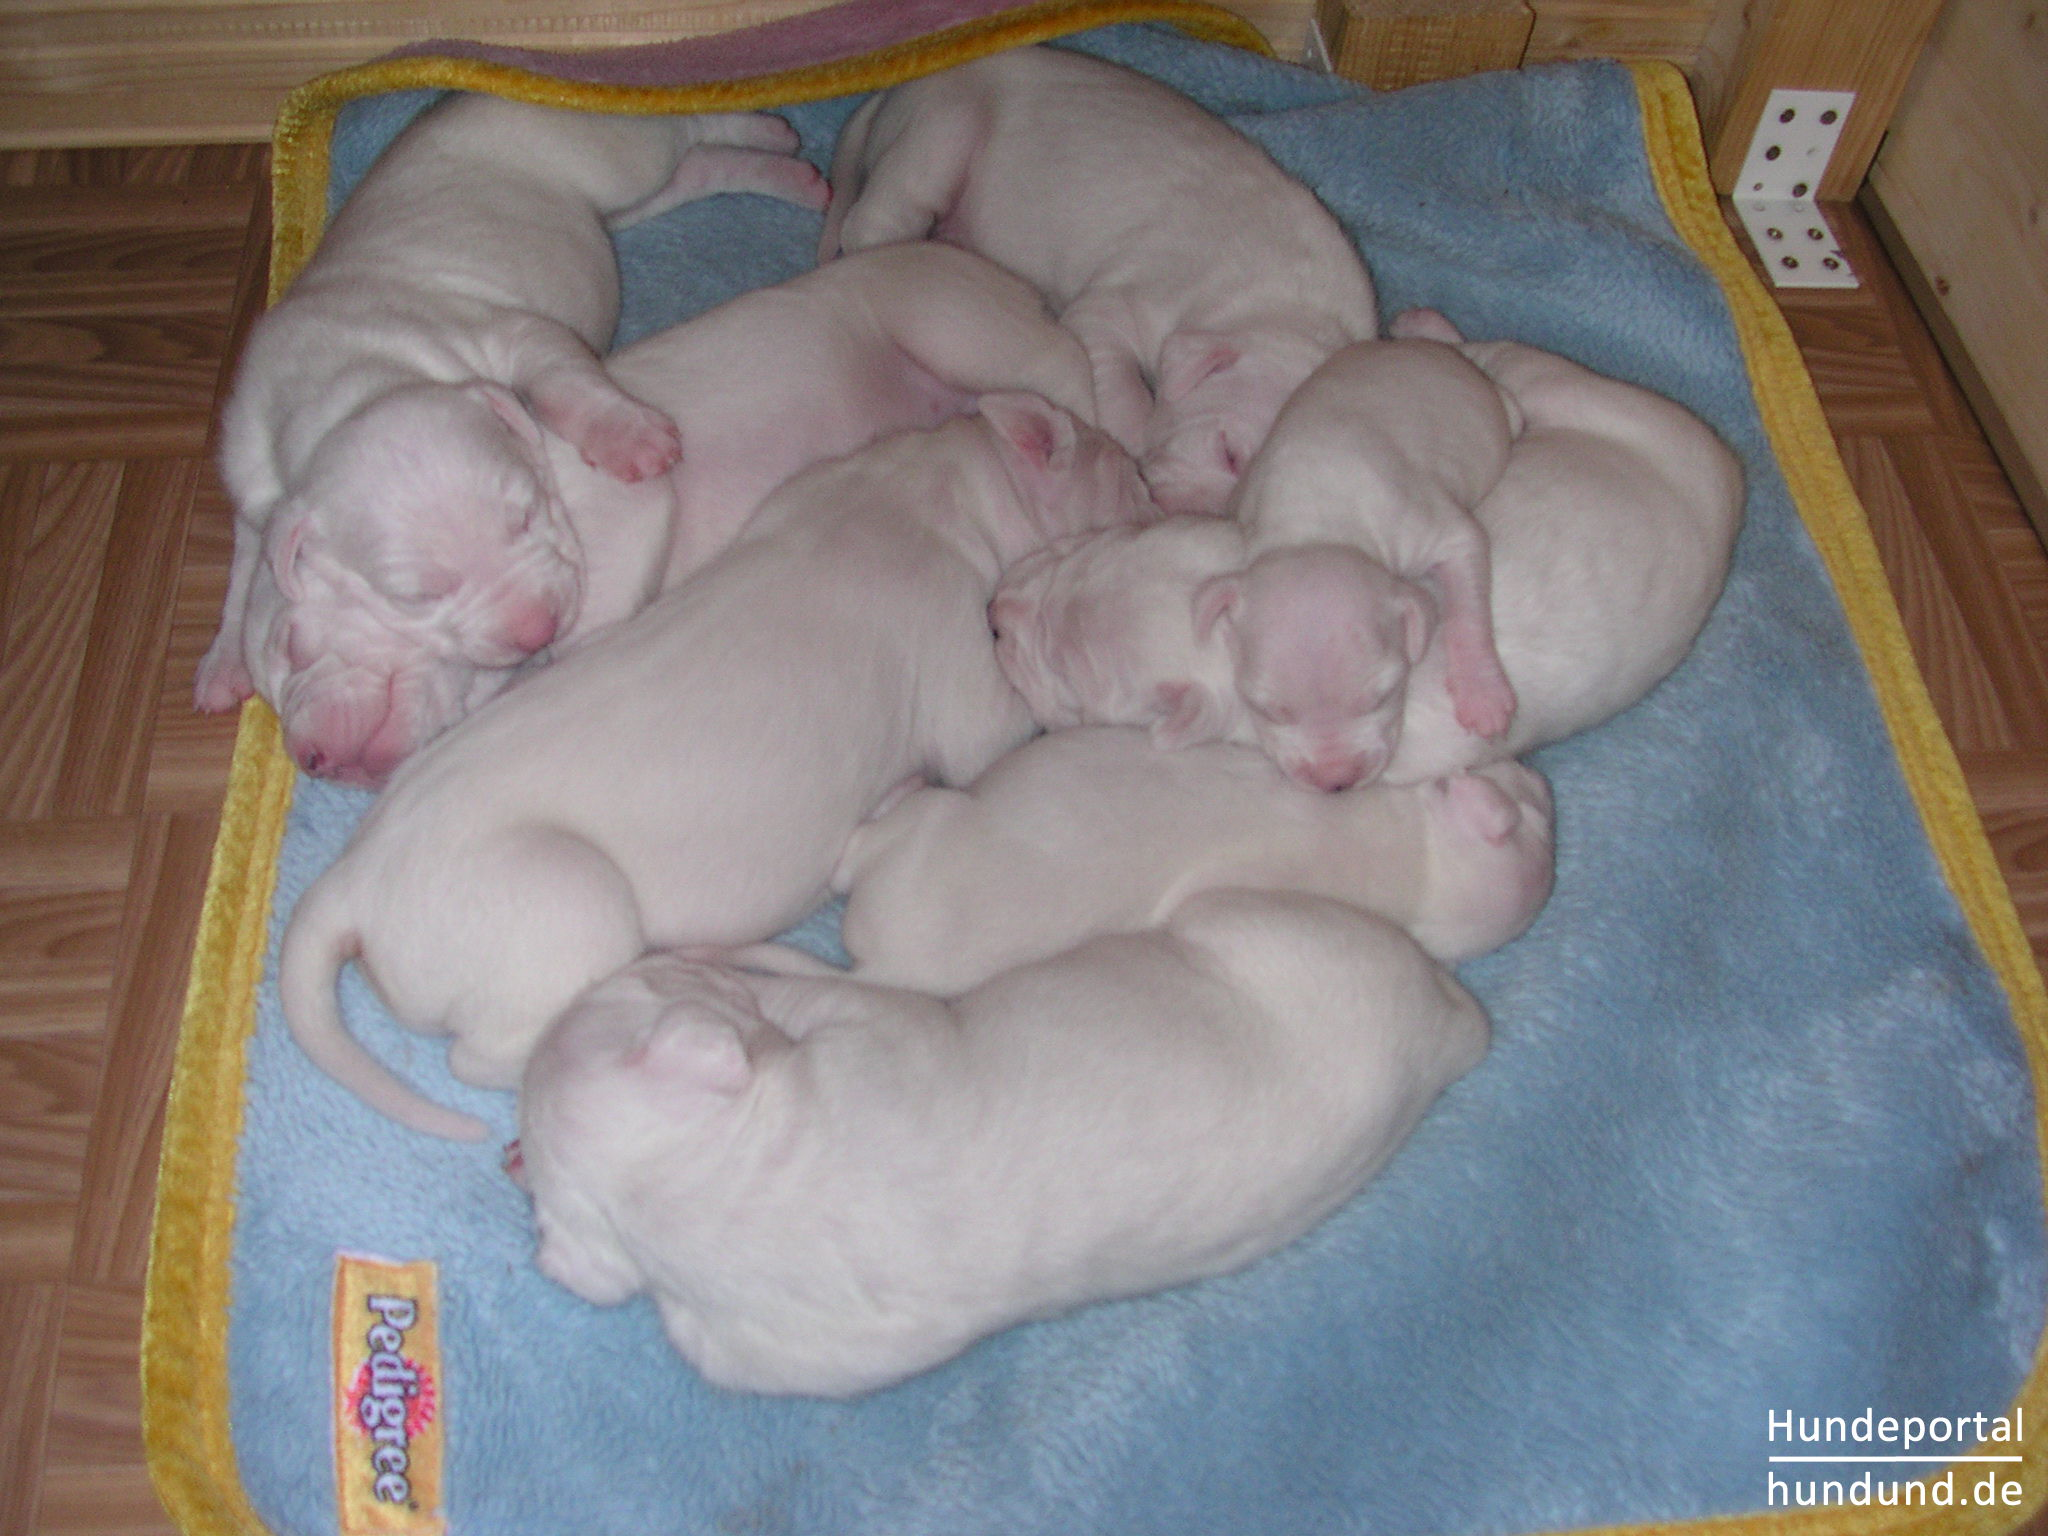dogo_argentino: (274, 394, 1168, 1146), (506, 883, 1493, 1404), (247, 239, 1101, 794), (190, 81, 830, 718), (985, 307, 1750, 795), (818, 42, 1380, 518), (666, 728, 1561, 1005), (1190, 334, 1526, 794)
